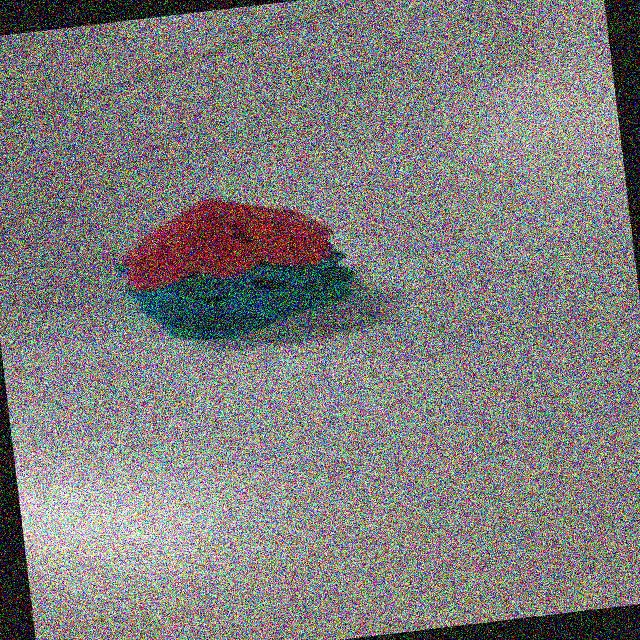House: (105, 171, 388, 352)
